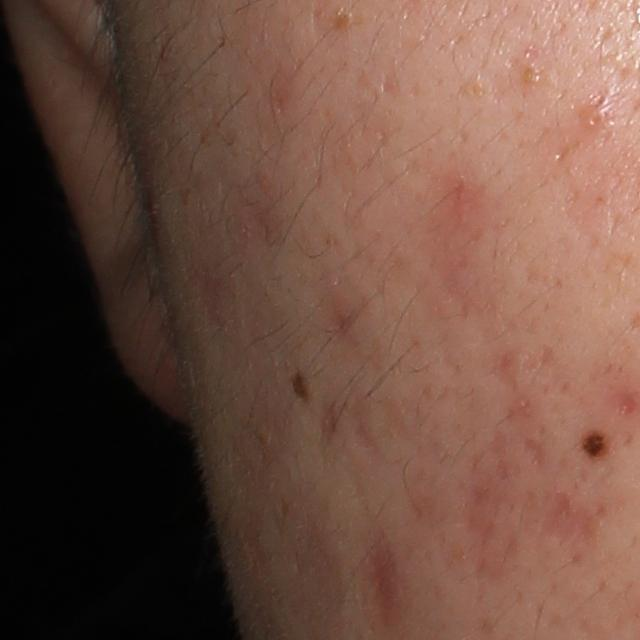atrophic_scar: (540, 487, 606, 554), (519, 342, 558, 374), (521, 434, 547, 467), (617, 390, 640, 415)
comedo: (581, 103, 611, 129)
nevus: (581, 425, 610, 461), (290, 372, 311, 402)
